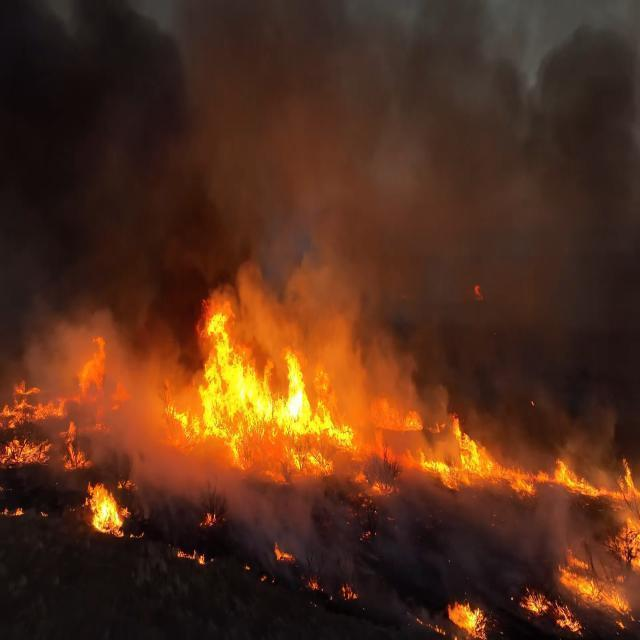Fire: (552, 452, 640, 640), (195, 306, 308, 446), (0, 342, 104, 482), (80, 488, 131, 544)
Smoke: (195, 0, 516, 294), (0, 0, 173, 322), (513, 12, 640, 380)
